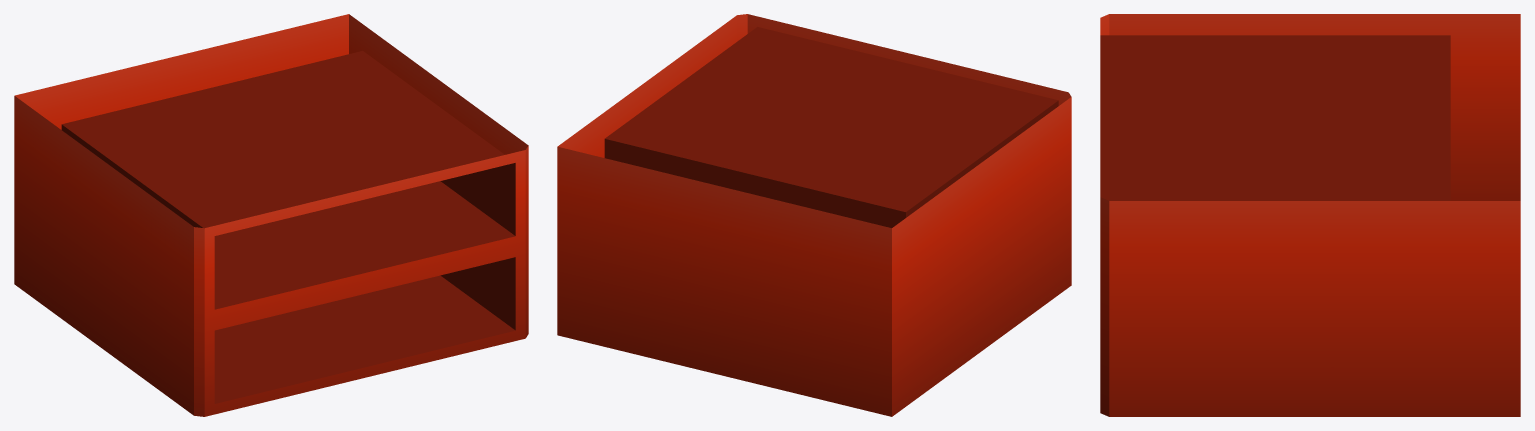
The model's file is Counter_01_v07_S_C0.fbx.
3 renders of one model, left to right at view 1: azimuth 30°, elevation 25°; view 2: azimuth 150°, elevation 25°; view 3: azimuth 270°, elevation 25°, orthographic. The views are drawn at different scales.
Parts seen in each view (by area): view 1: Counter_01_v07_S_C0; view 2: Counter_01_v07_S_C0; view 3: Counter_01_v07_S_C0.
Part boxes in pixels (x1,y1,x2,y2): Counter_01_v07_S_C0: [14, 14, 528, 416]; Counter_01_v07_S_C0: [557, 14, 1071, 416]; Counter_01_v07_S_C0: [1100, 14, 1520, 416].
Size of the model in its own units: 100 by 53.91 by 94.97.
